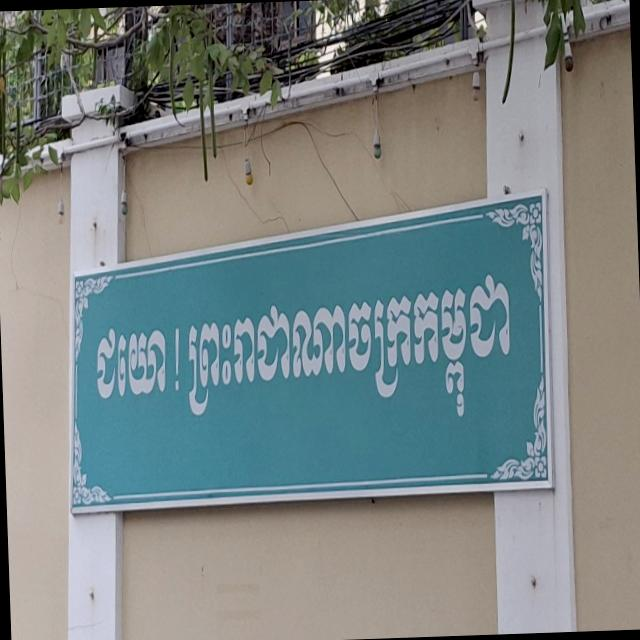Yolov11_80vkh: (86, 238, 517, 461)
